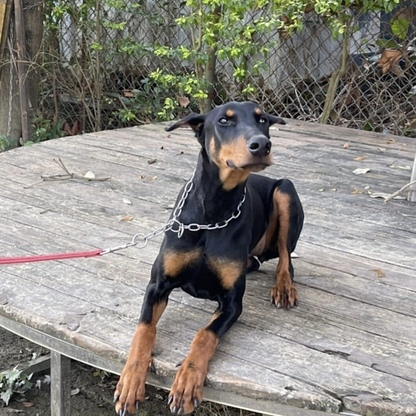doberman: (167, 94, 307, 329)
